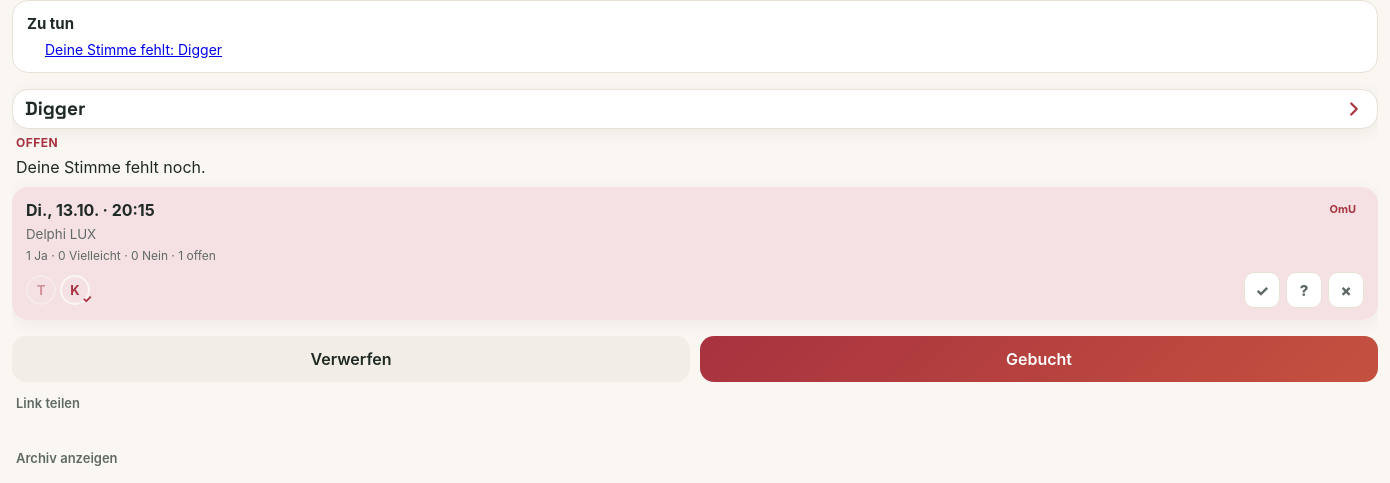
Test: K15 Stand und Zu-tun › AC04: Zu-tun aktualisiert sich erst nach bestätigter Stimme
Check: the element showing "Zu tun Deine Stimme fehlt: Digger" is shown, box [12,0,1378,73]
Click the button named "Ja" at (1262, 290), box [1244,272,1280,308]
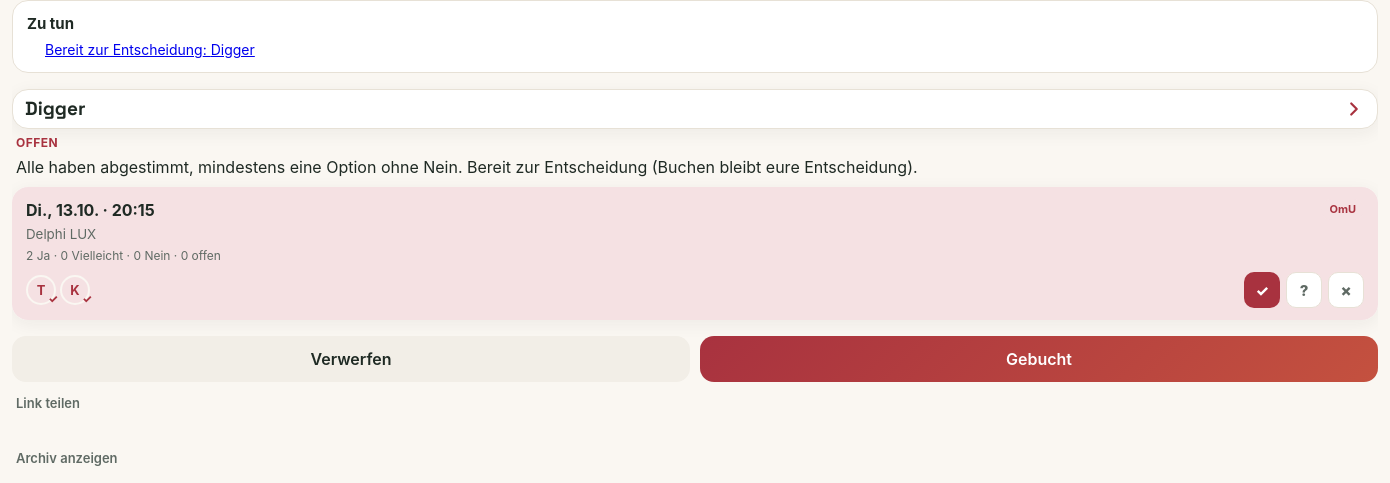
Check: the text "Buchen bleibt eure Entscheidung" is shown, box [16,157,918,177]
